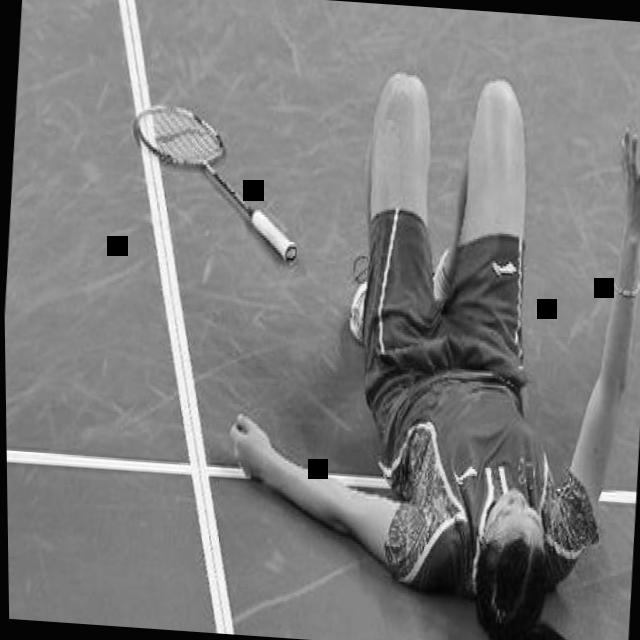Fall-Detected: (198, 23, 640, 640)
